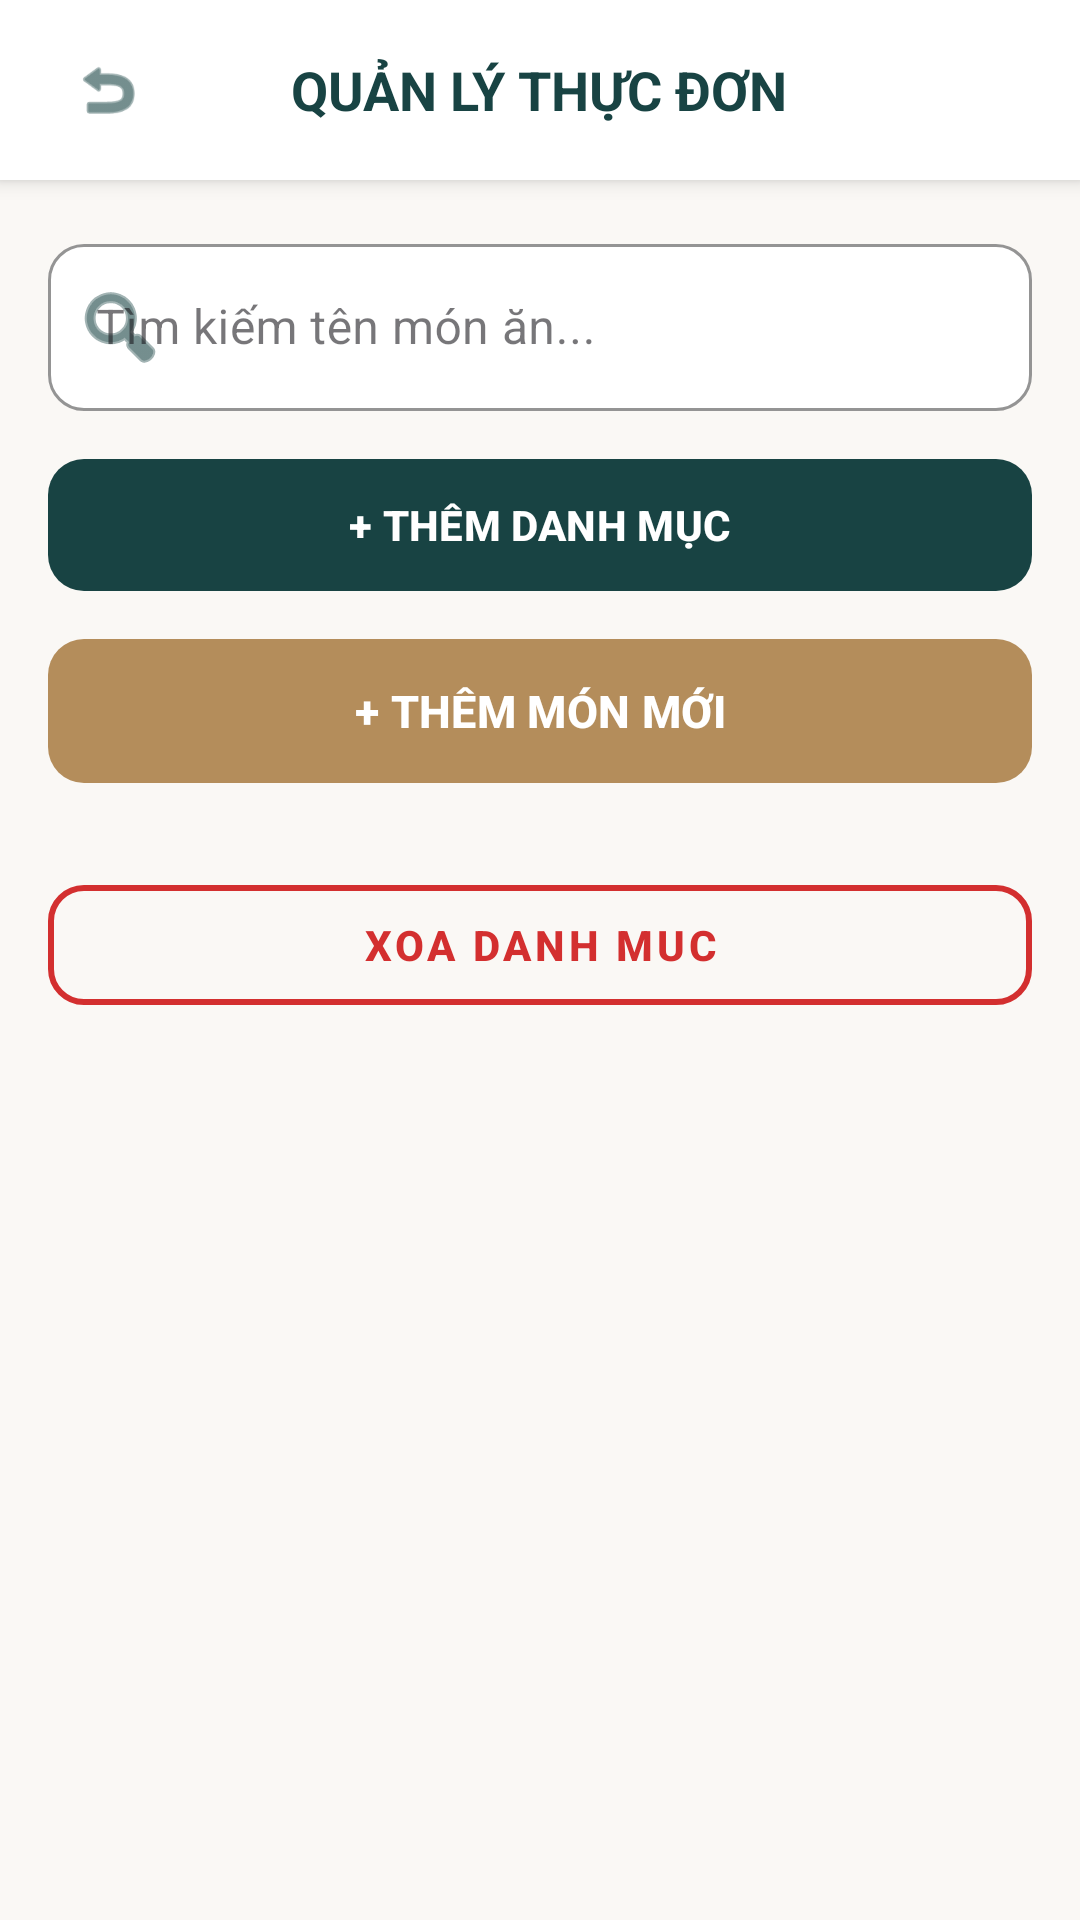

Screen size 1080 x 1920. Icon name, then its box in pixels as (x1, y1, x2, y2):
revert: (83, 67, 135, 114)
